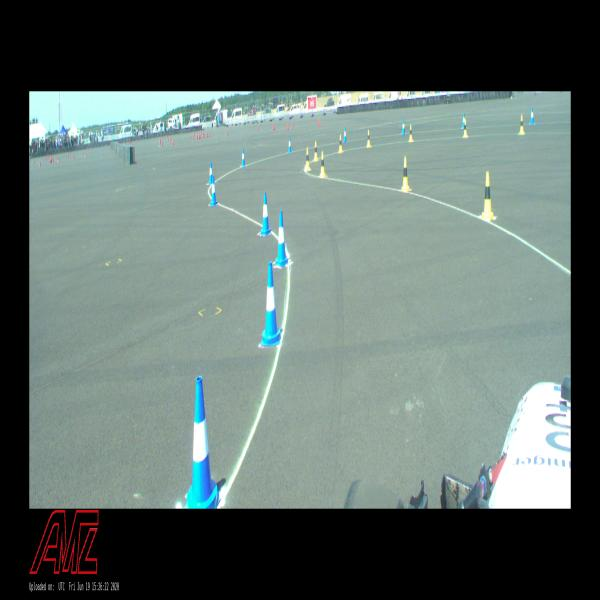blue_cone: (184, 376, 223, 509), (261, 262, 282, 346), (275, 211, 288, 265), (260, 192, 271, 235), (210, 176, 217, 206), (208, 162, 213, 184), (529, 108, 535, 124), (241, 149, 246, 167), (401, 120, 406, 134), (462, 113, 466, 128), (288, 138, 292, 152), (343, 128, 347, 142)
yellow_cone: (481, 172, 494, 221), (401, 157, 410, 191), (320, 152, 328, 178), (304, 148, 310, 170), (518, 115, 524, 134), (462, 120, 468, 138), (408, 125, 414, 142), (313, 141, 318, 161), (338, 134, 343, 153), (366, 130, 371, 147)
